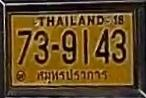1: (83, 30, 87, 64)
3: (111, 28, 125, 62), (34, 30, 48, 63)
4: (96, 28, 108, 63)
7: (18, 29, 32, 64)
9: (62, 29, 76, 63)
SPK: (37, 67, 108, 85)
